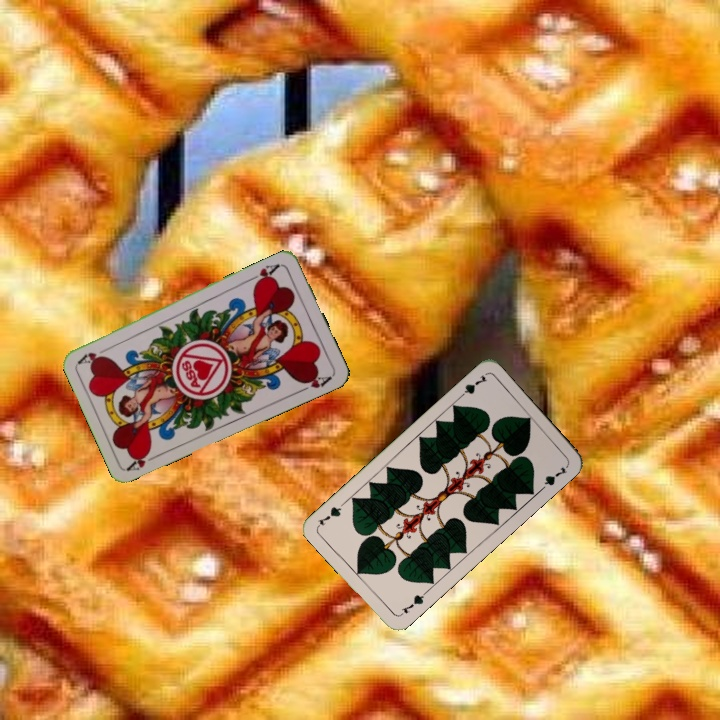G7: (454, 371, 489, 402), (396, 588, 429, 619)
HA: (246, 259, 284, 288), (124, 446, 163, 474)
